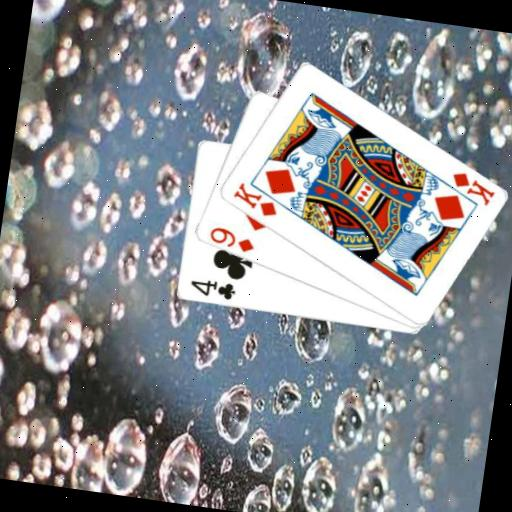4C: (185, 275, 238, 303)
9D: (204, 223, 258, 256)
KD: (228, 178, 282, 220), (446, 168, 499, 208)
